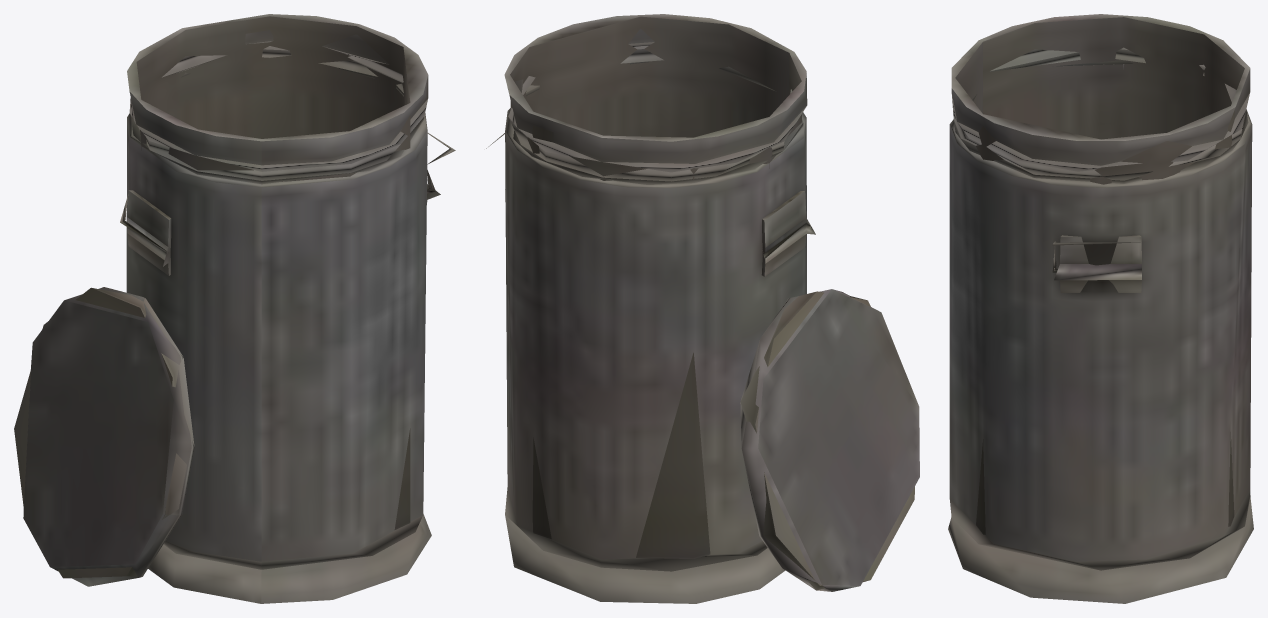
The model's file is poubelle_metal_lod2.glb.
3 views of the same model, side by side, from view 1: azimuth 30°, elevation 25°; view 2: azimuth 150°, elevation 25°; view 3: azimuth 270°, elevation 25° (orthographic).
Visible parts, largest first — view 1: metal_trash_can_handle_left; view 2: metal_trash_can_handle_left; view 3: metal_trash_can_handle_left.
Boxes of the visible parts, x1,y1,x2,y2 form: metal_trash_can_handle_left: (14, 14, 455, 603); metal_trash_can_handle_left: (486, 14, 919, 603); metal_trash_can_handle_left: (948, 14, 1253, 603).
Bounding box in the file's own units: 0.7603 × 0.9062 × 0.5446.
Materials: 1 (1 with a texture image).
